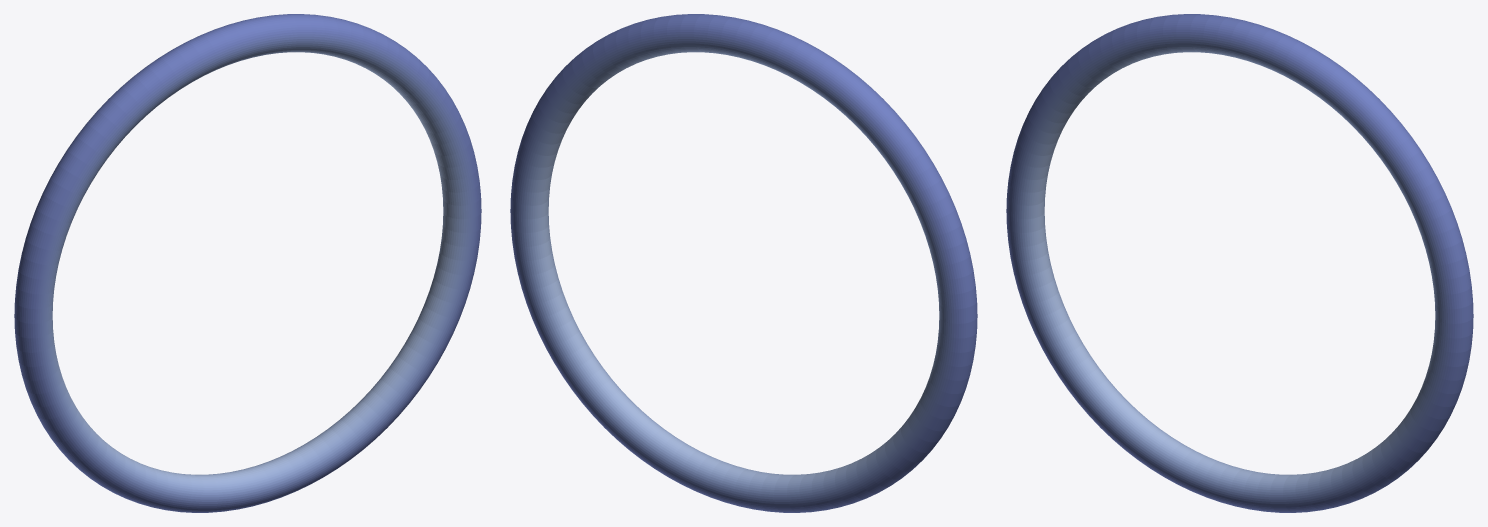
3 views of the same model, side by side, from view 1: azimuth 30°, elevation 25°; view 2: azimuth 150°, elevation 25°; view 3: azimuth 330°, elevation 25° (orthographic).
Visible parts, largest first — view 1: world; view 2: world; view 3: world.
Boxes of the visible parts, x1,y1,x2,y2 form: world: [14, 14, 481, 512]; world: [510, 14, 977, 512]; world: [1006, 14, 1473, 512].
Bounding box in the file's own units: 31.6 × 31.6 × 2.26.
